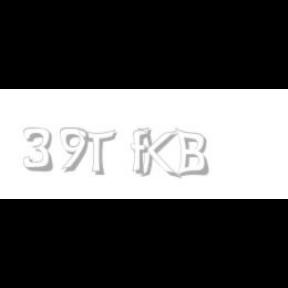3: (23, 128, 54, 172)
9: (60, 128, 88, 172)
B: (175, 128, 209, 178)
K: (137, 128, 177, 180)
T: (76, 128, 116, 176)
f: (131, 128, 155, 174)
